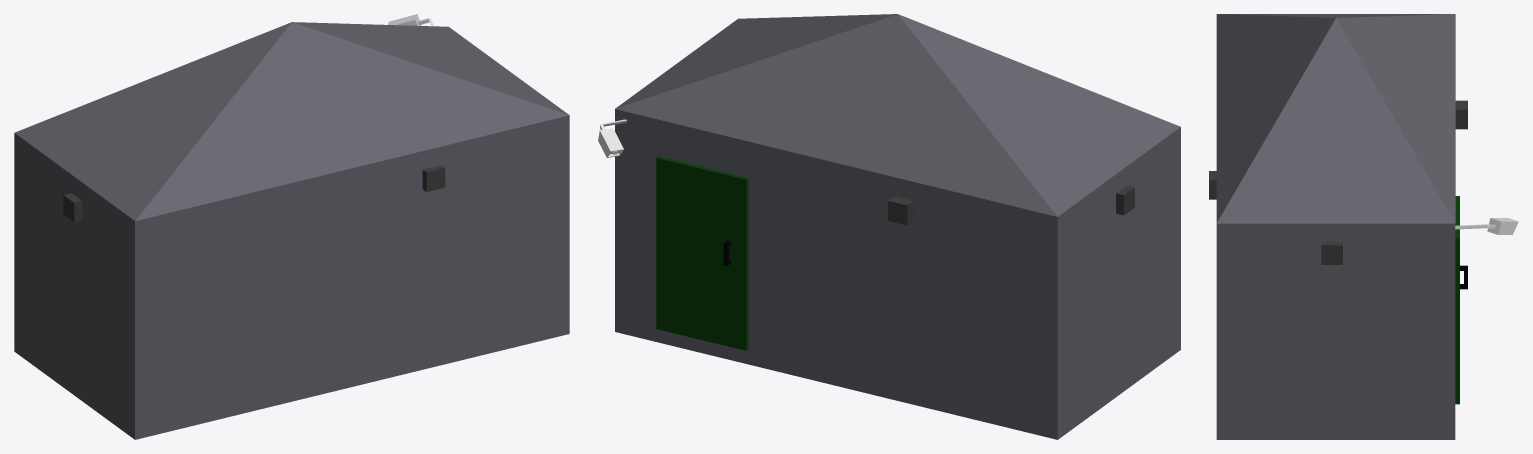
3 renders of one model, left to right at view 1: azimuth 30°, elevation 25°; view 2: azimuth 150°, elevation 25°; view 3: azimuth 270°, elevation 25°, orthographic. The views are drawn at different scales.
Visible parts, largest first — view 1: Cube.001, Cone, light.001; view 2: Cube.001, Cone, Cube.002, light; view 3: Cube.001, Cone, Cube.002, light.003, cam, light.
Boxes of the visible parts, box(x1,y1,x2,y2) form: Cube.001: box(14, 115, 569, 439); Cone: box(14, 22, 569, 221); light.001: box(422, 165, 445, 192); Cube.001: box(615, 109, 1180, 439); Cone: box(615, 14, 1180, 216); Cube.002: box(656, 156, 748, 350); light: box(888, 196, 913, 225); Cube.001: box(1216, 223, 1455, 439); Cone: box(1216, 14, 1455, 223); Cube.002: box(1455, 196, 1459, 404); light.003: box(1321, 242, 1342, 264); cam: box(1487, 218, 1518, 234); light: box(1455, 100, 1467, 129).
Bounding box in the file's own units: 561 × 382 × 338.
